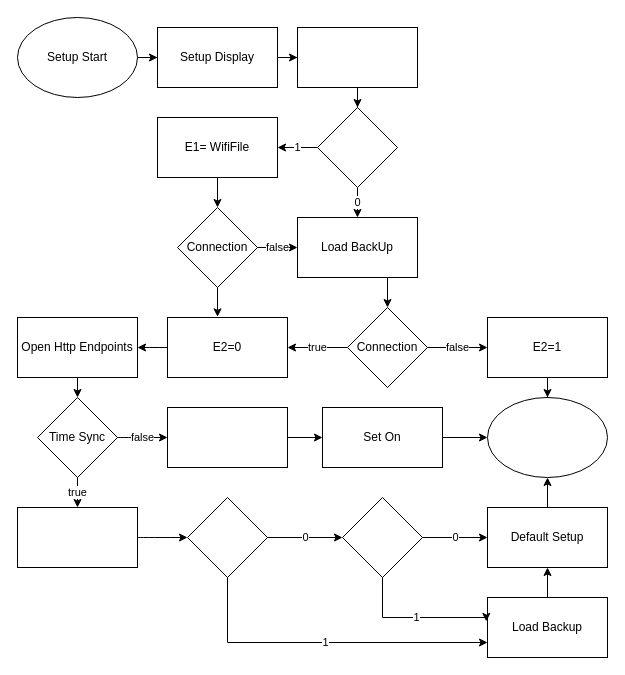
Image size: 625x675. Some labels were removed from this diagram. Each missing label, with the box of its shape:
E0: (186, 496, 268, 578)
E0=SD card Error: (316, 106, 398, 188)
E3=0: (16, 506, 138, 568)
E3=1: (166, 406, 288, 468)
E4=Task File: (342, 496, 422, 578)
End Setup: (486, 396, 608, 478)
Setup SD card: (296, 26, 418, 88)
